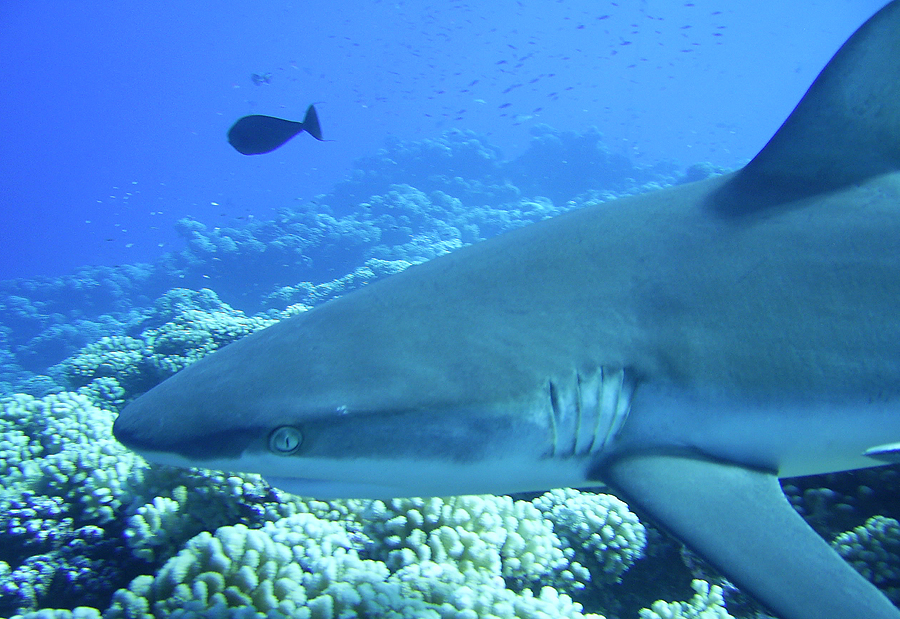Carcharhinus_amblyrhynchos: (91, 33, 899, 619)
